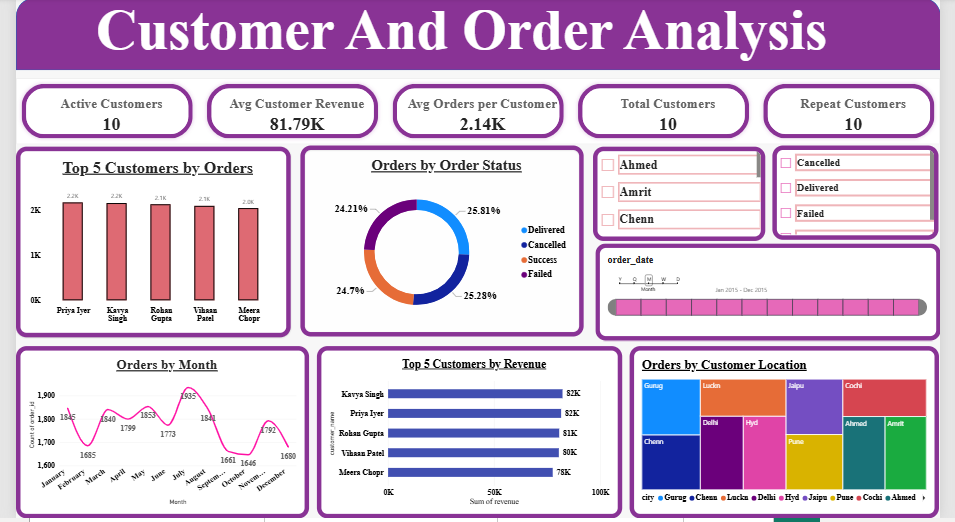

The page's visual inventory and layout, read from the dashboard file:
{"tool":"powerbi","page":{"name":"Customer and Order analysis","canvas":[1920,1080],"ordinal":1},"visuals":[{"type":"lineChart","title":"Orders by Month","fields":{"Category":["dominos_db vw_customerorderdashboard.order_date.Variation.Date Hierarchy.Month"],"Y":["Count(dominos_db vw_customerorderdashboard.order_id)"]},"box":[0,723.4,608.5,357.4],"z":0},{"type":"donutChart","title":"Orders by Order Status","fields":{"Category":["dominos_db vw_customerorderdashboard.status"],"Y":["Count(dominos_db vw_customerorderdashboard.order_id)"]},"box":[591.5,306.4,588,396.9],"z":1000},{"type":"clusteredBarChart","title":"Top 5 Customers by Revenue","fields":{"Category":["dominos_db vw_customerorderdashboard.customer_name"],"Y":["Sum(dominos_db vw_customerorderdashboard.revenue)"]},"box":[625.5,722.5,634,357.4],"z":2000},{"type":"columnChart","title":"Top 5 Customers by Orders","fields":{"Category":["dominos_db vw_customerorderdashboard.customer_name"],"Y":["Count(dominos_db vw_customerorderdashboard.order_id)"]},"box":[0,308,570,396],"z":3000},{"type":"treemap","title":"Orders by Customer Location","fields":{"Group":["dominos_db vw_customerorderdashboard.city"],"Values":["dominos_db vw_customerorderdashboard.Total Orders amount"]},"box":[1274.5,722.5,642.6,357.4],"z":4000},{"type":"slicer","fields":{"Values":["dominos_db vw_customerorderdashboard.status"]},"box":[1570.2,306.4,344.7,195.7],"z":5000},{"type":"Timeline1447991079100","fields":{"Time":["dominos_db vw_customerorderdashboard.order_date"]},"box":[1202.1,510.6,717,202.1],"z":6000},{"type":"slicer","fields":{"Values":["dominos_db vw_customerorderdashboard.city"]},"box":[1197.9,308.5,357.4,195.7],"z":7000},{"type":"cardVisual","fields":{"Data":["dominos_db vw_customerorderdashboard.Active Customers","dominos_db vw_customerorderdashboard.Avg Customer Revenue","dominos_db vw_customerorderdashboard.Avg Orders per Customer","dominos_db vw_customerorderdashboard.Total Customers","dominos_db vw_customerorderdashboard.Repeat Customers"]},"box":[0,167,1920.7,137],"z":8000},{"type":"shape","box":[0,0,1920,150],"z":9000},{"type":"textbox","box":[108.5,0,1634,419.1],"z":10000}]}

Visuals, with their boxes in screenshot pixels (x1, y1, x2, y2), scaled from the page's 1920x1080 canvas onto the 955x522 screenshot:
"Orders by Month" lineChart: locate(0, 350, 303, 521)
"Orders by Order Status" donutChart: locate(294, 148, 587, 340)
"Top 5 Customers by Revenue" clusteredBarChart: locate(311, 349, 626, 521)
"Top 5 Customers by Orders" columnChart: locate(0, 149, 284, 340)
"Orders by Customer Location" treemap: locate(634, 349, 954, 521)
slicer - dominos_db vw_customerorderdashboard.status: locate(781, 148, 952, 243)
Timeline1447991079100 - dominos_db vw_customerorderdashboard.order_date: locate(598, 247, 954, 344)
slicer - dominos_db vw_customerorderdashboard.city: locate(596, 149, 774, 244)
cardVisual - dominos_db vw_customerorderdashboard.Active Customers x dominos_db vw_customerorderdashboard.Avg Customer Revenue: locate(0, 81, 954, 147)
shape: locate(0, 0, 954, 72)
textbox: locate(54, 0, 867, 203)
